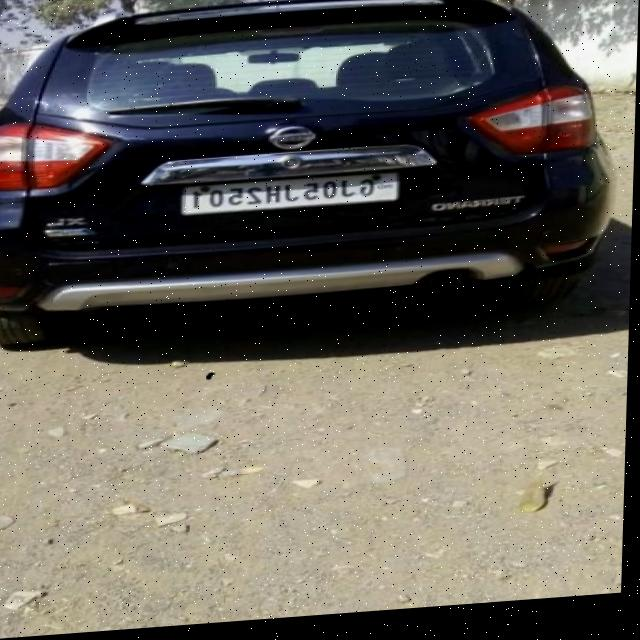plate: (183, 174, 397, 218)
